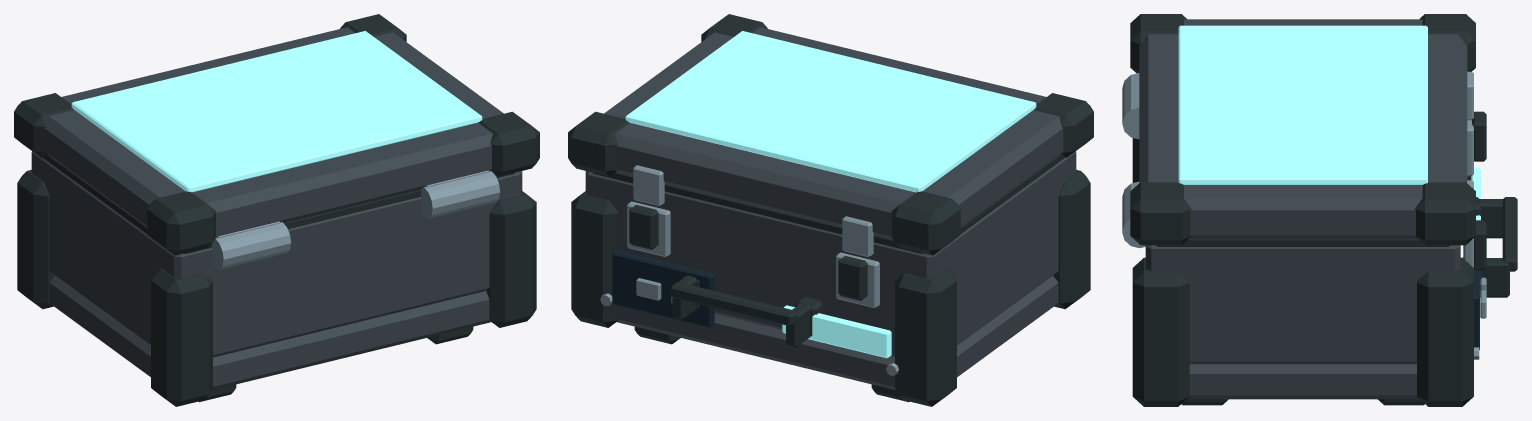
Rendered from encrypted_electronics_case.glb.
3 views of the same model, side by side, from view 1: azimuth 30°, elevation 25°; view 2: azimuth 150°, elevation 25°; view 3: azimuth 270°, elevation 25° (orthographic). The views are drawn at different scales.
Parts seen in each view (by area): view 1: moving_lid_inset, body_back_wall, moving_lid_shell, corner_guard (×3), body_left_wall, body_floor, moving_lid_corner (×4), hinge_body (×2), gasket_back, gasket_side; view 2: moving_lid_inset, moving_lid_shell, body_front_wall, corner_guard (×3), body_left_wall, body_floor, moving_lid_corner (×4), port_bank, latch_release (×2), status_display, moving_latch_hook (×2), carry_handle_bar (+6 smaller); view 3: moving_lid_inset, body_right_wall, moving_lid_shell, corner_guard (×2), moving_lid_corner (×4), body_floor, gasket_side, hinge_body (×2), latch_release (×2), carry_handle_bar, carry_handle_right, carry_handle_left (+2 smaller).
Part boxes in pixels (x1,y1,x2,y2): moving_lid_inset: (71,31,482,192); body_back_wall: (166,172,520,357); moving_lid_shell: (44,27,503,237); corner_guard (×3): (17,170,536,406); body_left_wall: (31,151,195,345); body_floor: (49,276,490,390); moving_lid_corner (×4): (14,14,539,255); hinge_body (×2): (212,171,500,269); gasket_back: (184,172,514,253); gasket_side: (43,155,147,233); moving_lid_inset: (625,31,1036,192); moving_lid_shell: (604,27,1063,239); body_front_wall: (587,172,941,357); corner_guard (×3): (571,170,1090,406); body_left_wall: (912,151,1076,345); body_floor: (617,276,1058,390); moving_lid_corner (×4): (568,14,1093,255); port_bank: (612,250,714,327); latch_release (×2): (629,205,867,300); status_display: (782,305,891,358); moving_latch_hook (×2): (633,165,873,257); carry_handle_bar: (670,282,797,326); moving_lid_inset: (1178,25,1427,184); body_right_wall: (1145,245,1460,364); moving_lid_shell: (1139,19,1467,239); corner_guard (×2): (1132,257,1473,406); moving_lid_corner (×4): (1130,14,1475,245); body_floor: (1187,364,1419,399); gasket_side: (1156,239,1449,246); hinge_body (×2): (1122,73,1145,248); latch_release (×2): (1472,111,1486,270); carry_handle_bar: (1502,197,1517,271); carry_handle_right: (1480,258,1509,297); carry_handle_left: (1477,199,1502,238).
Size of the model in its own units: 1.05 by 0.5895 by 0.9045.
